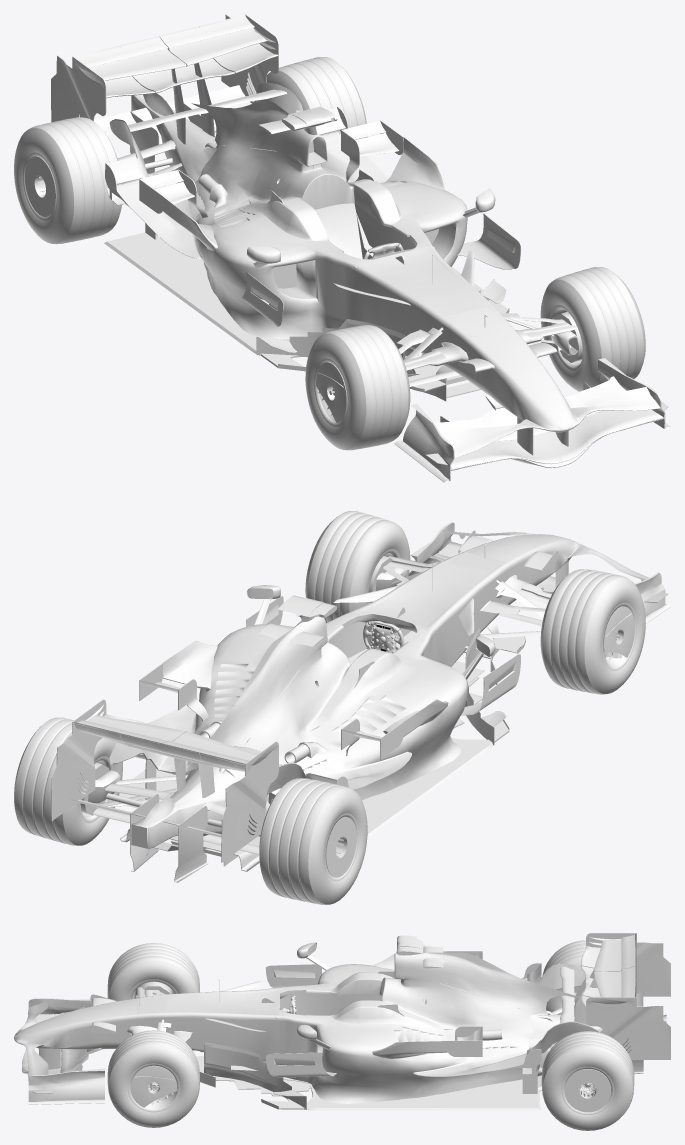
The model's file is f1car.glb.
3 views of the same model, one above another, from view 1: azimuth 30°, elevation 25°; view 2: azimuth 150°, elevation 25°; view 3: azimuth 270°, elevation 25° (orthographic). The views are drawn at different scales.
Parts seen in each view (by area): view 1: fer01_body_hi, fer01_rwing_monza, fer01_fwing_early, tire_lr, tire_rr, tire_lf, fer01_nose_hole, fer01_rwing_normal, tire_rf, fer01_fwing_monza, fer_sdwing_br, fer01_nose_normal (+6 smaller); view 2: fer01_body_hi, fer01_rwing_monza, tire_rr, tire_lr, tire_lf, tire_rf, fer01_nose_hole, fer01_fwing_early, fer01_rwing_normal, fer_sdwing_br, fer_suspa_rf, fer_suspa_lr (+9 smaller); view 3: fer01_body_hi, fer01_rwing_monza, tire_rf, tire_lf, fer01_fwing_early, fer01_nose_hole, tire_lr, fer_sdwing_bl, fer_cov_rl, fer_cov_lf, fer01_nose_normal, fer01_rwing_normal (+4 smaller).
Part boxes in pixels (x1,y1,x2,y2): fer01_body_hi: [94, 82, 530, 384]; fer01_rwing_monza: [51, 14, 278, 143]; fer01_fwing_early: [394, 358, 670, 482]; tire_lr: [305, 325, 410, 450]; tire_rr: [14, 117, 122, 244]; tire_lf: [540, 267, 645, 391]; fer01_nose_hole: [458, 322, 591, 432]; fer01_rwing_normal: [73, 15, 278, 144]; tire_rf: [266, 57, 367, 139]; fer01_fwing_monza: [440, 385, 663, 470]; fer_sdwing_br: [256, 319, 469, 401]; fer01_nose_normal: [448, 307, 584, 431]; fer01_body_hi: [70, 543, 530, 882]; fer01_rwing_monza: [51, 699, 278, 862]; tire_rr: [259, 778, 367, 904]; tire_lr: [540, 569, 645, 694]; tire_lf: [305, 511, 410, 622]; tire_rf: [14, 717, 122, 845]; fer01_nose_hole: [458, 530, 590, 604]; fer01_fwing_early: [408, 522, 670, 623]; fer01_rwing_normal: [73, 705, 261, 792]; fer_sdwing_br: [464, 620, 525, 745]; fer_suspa_rf: [480, 580, 551, 638]; fer_suspa_lr: [93, 775, 187, 823]; fer01_body_hi: [127, 935, 666, 1110]; fer01_rwing_monza: [577, 933, 670, 1059]; tire_rf: [541, 1031, 634, 1130]; tire_lf: [107, 1030, 199, 1127]; fer01_fwing_early: [22, 998, 104, 1104]; fer01_nose_hole: [14, 994, 139, 1049]; tire_lr: [107, 943, 199, 1001]; fer_sdwing_bl: [199, 1042, 306, 1109]; fer_cov_rl: [564, 1069, 611, 1112]; fer_cov_lf: [130, 1065, 177, 1107]; fer01_nose_normal: [14, 996, 166, 1049]; fer01_rwing_normal: [574, 933, 636, 1021].
Bounding box in the file's own units: 1.89 × 1.03 × 4.57.
27 materials, 2 textured.
